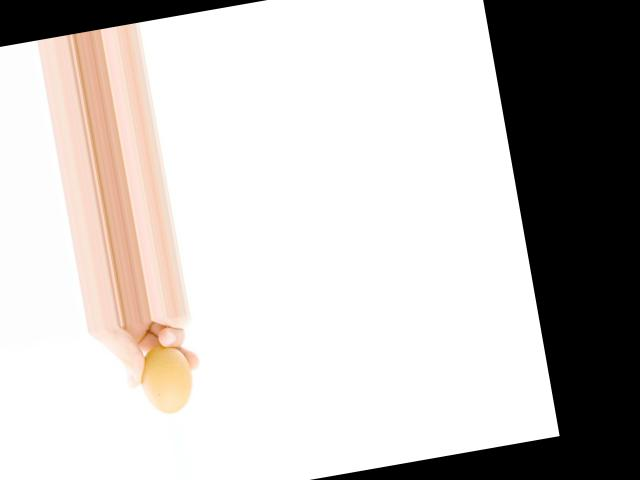egg: (136, 342, 198, 417)
